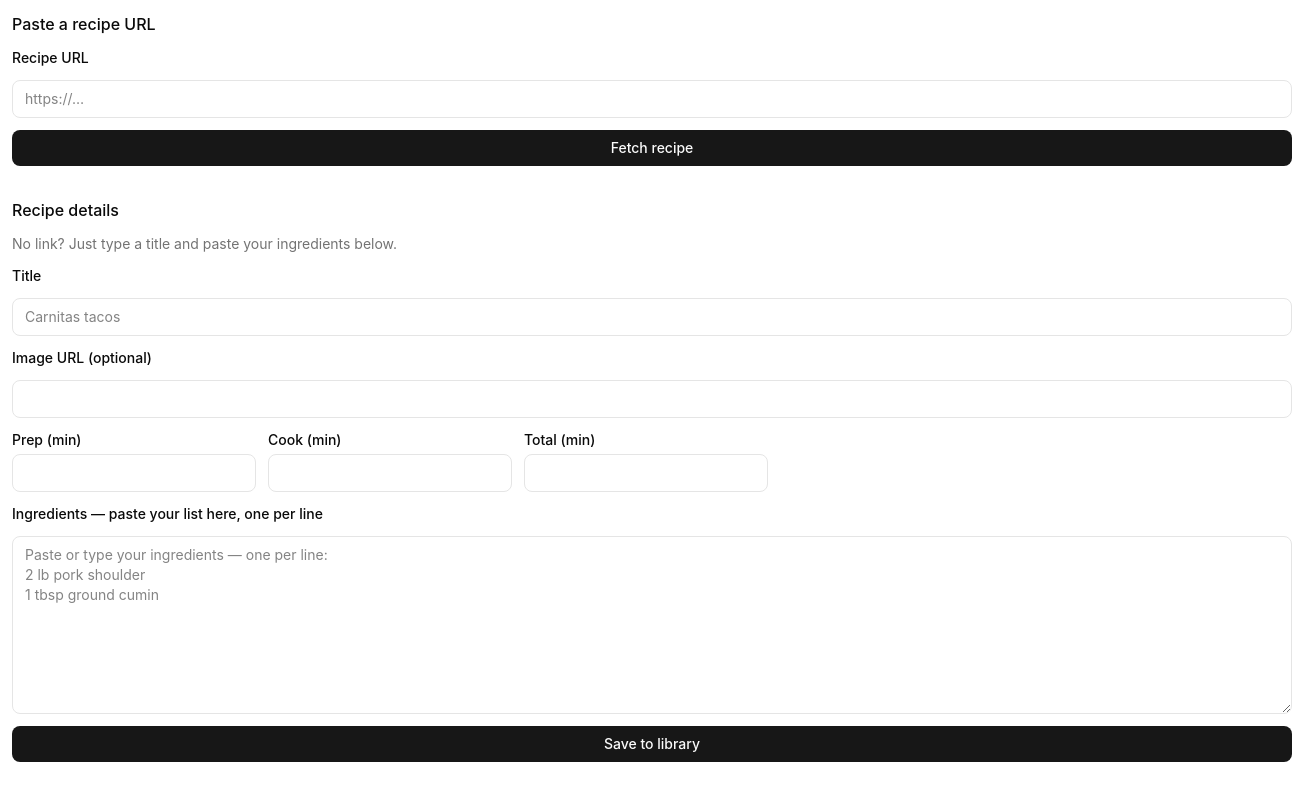
RecipeIngestForm › shows a friendly notice and leaves a usable empty editor when extraction fails
Type "https://example.com/blog-post" into the field labelled "Recipe URL" at {"x": 652, "y": 99}, box [12,80,1292,118]
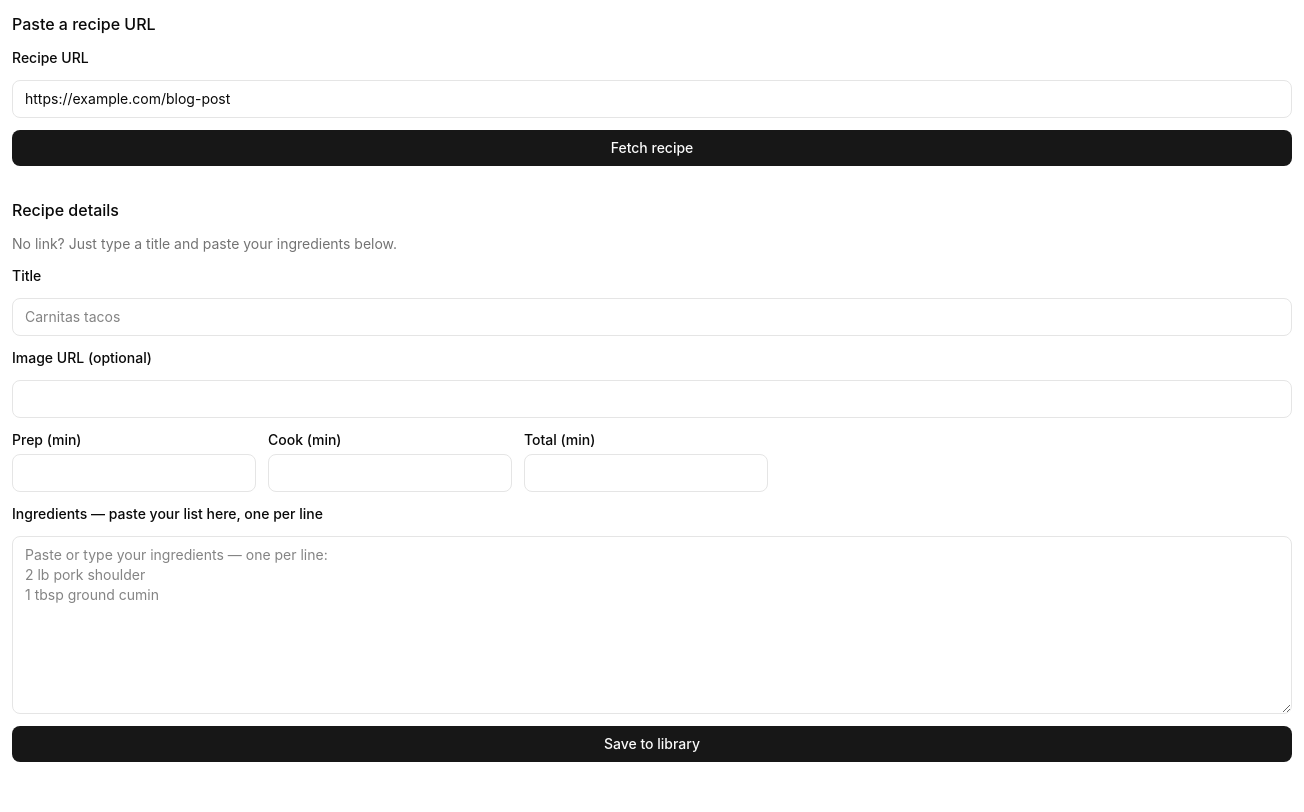
Click the button "Fetch recipe" at {"x": 652, "y": 148}, box [12,130,1292,166]
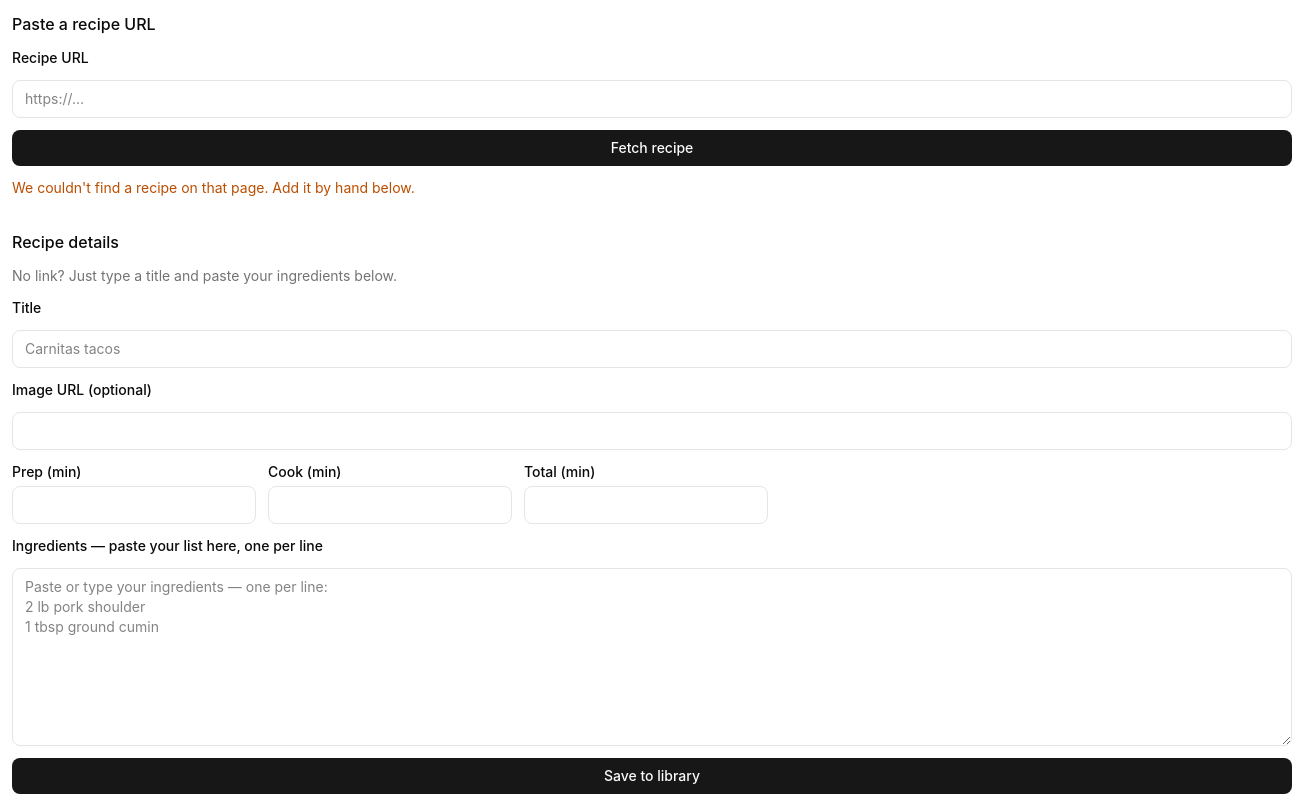
Expected: the field labelled "Title" is empty, [12,330,1292,368]
Now the text "We couldn't find a recipe on that page. Add it by hand below." is shown, box [12,179,415,196]
